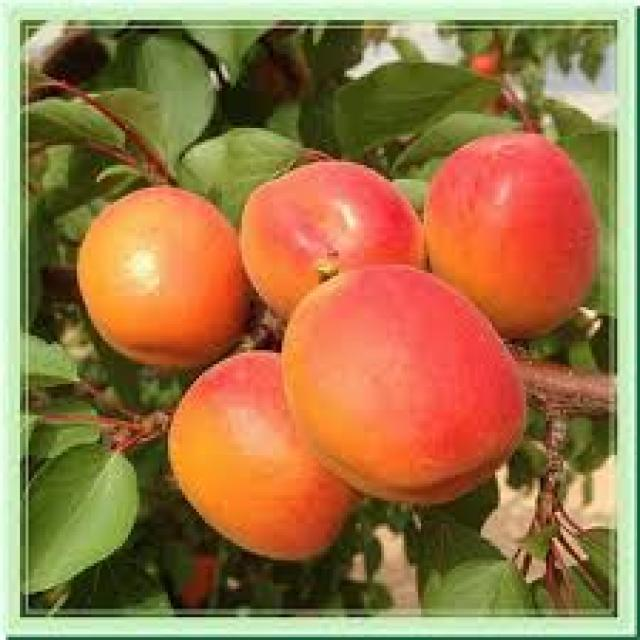kayisi: (289, 265, 528, 504), (428, 134, 595, 333), (71, 191, 246, 366)
